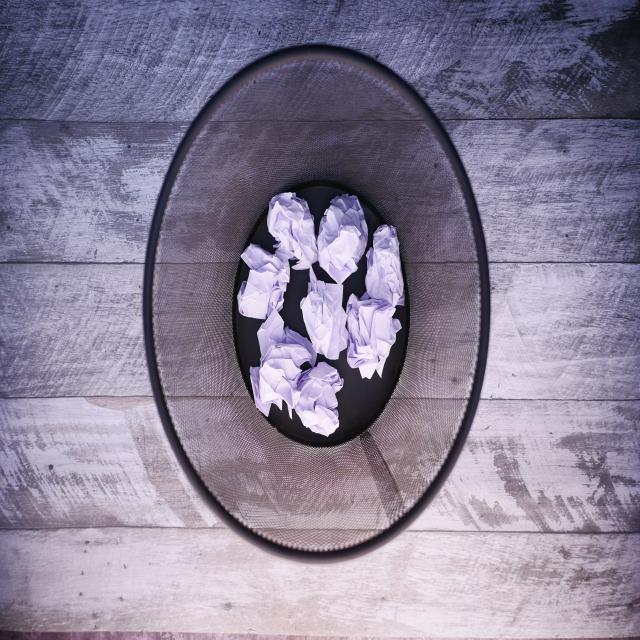paper: (242, 200, 402, 437)
